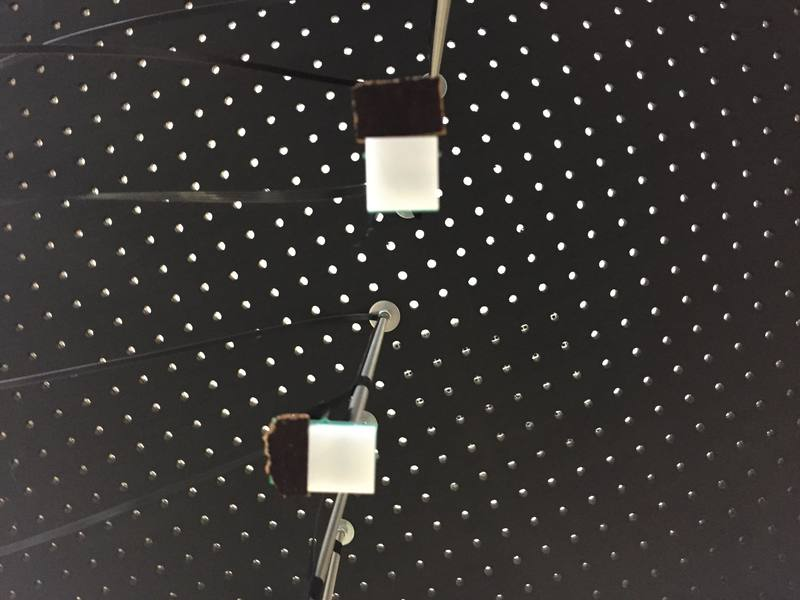target: (360, 132, 443, 215), (303, 418, 380, 501)
